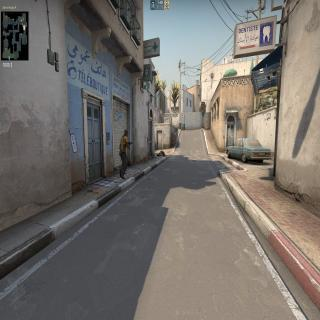T-Head: (124, 128, 128, 138)
